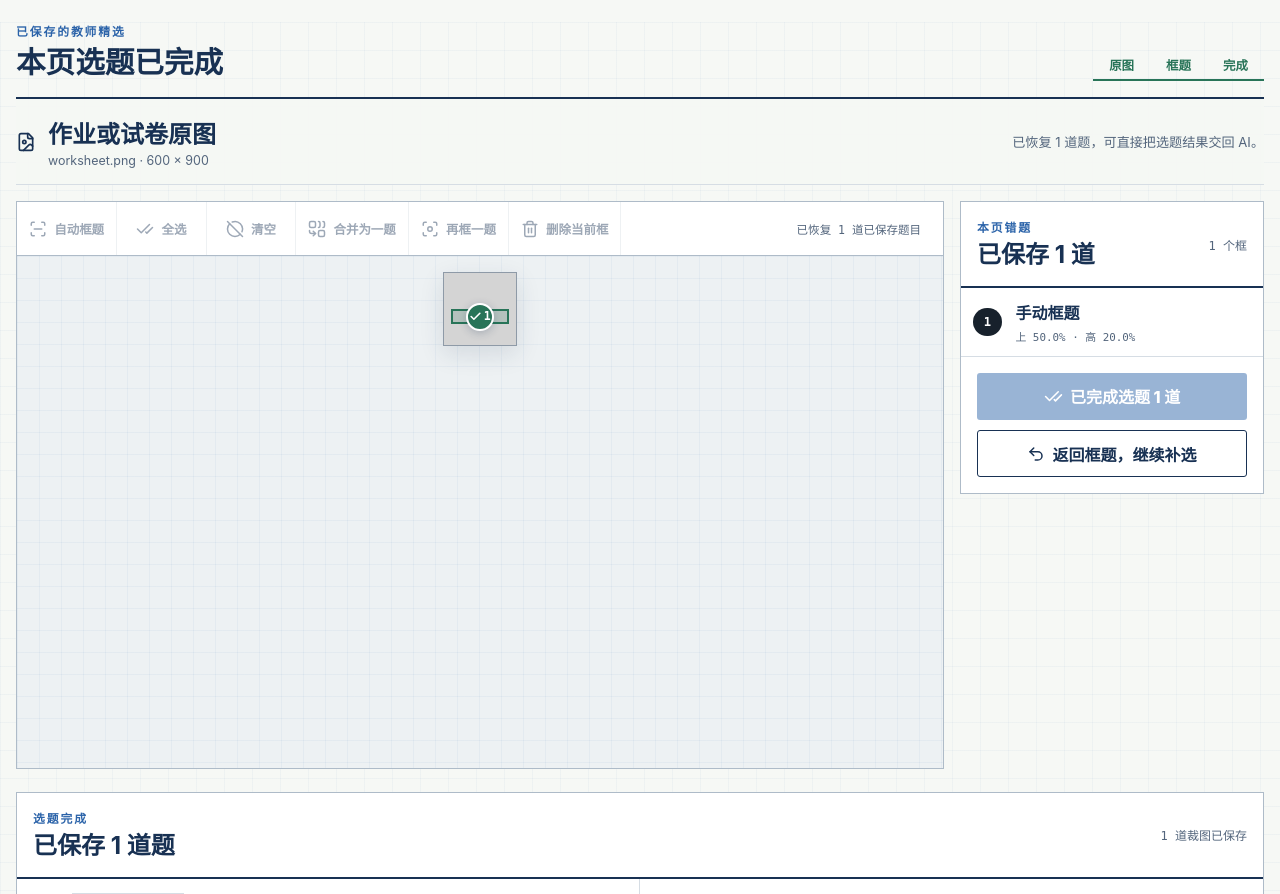
Test: ProblemIntake multi-region workflow › returns from completion to an add-only pass and accumulates the saved results
This screenshot has width=1280, height=894.
expect the heading "本页选题已完成" is shown: met, box [16, 44, 223, 81]
expect the heading "已保存 1 道" is shown: met, box [977, 235, 1095, 270]
Click the button "返回框题，继续补选" at (1112, 454), box [977, 430, 1247, 477]
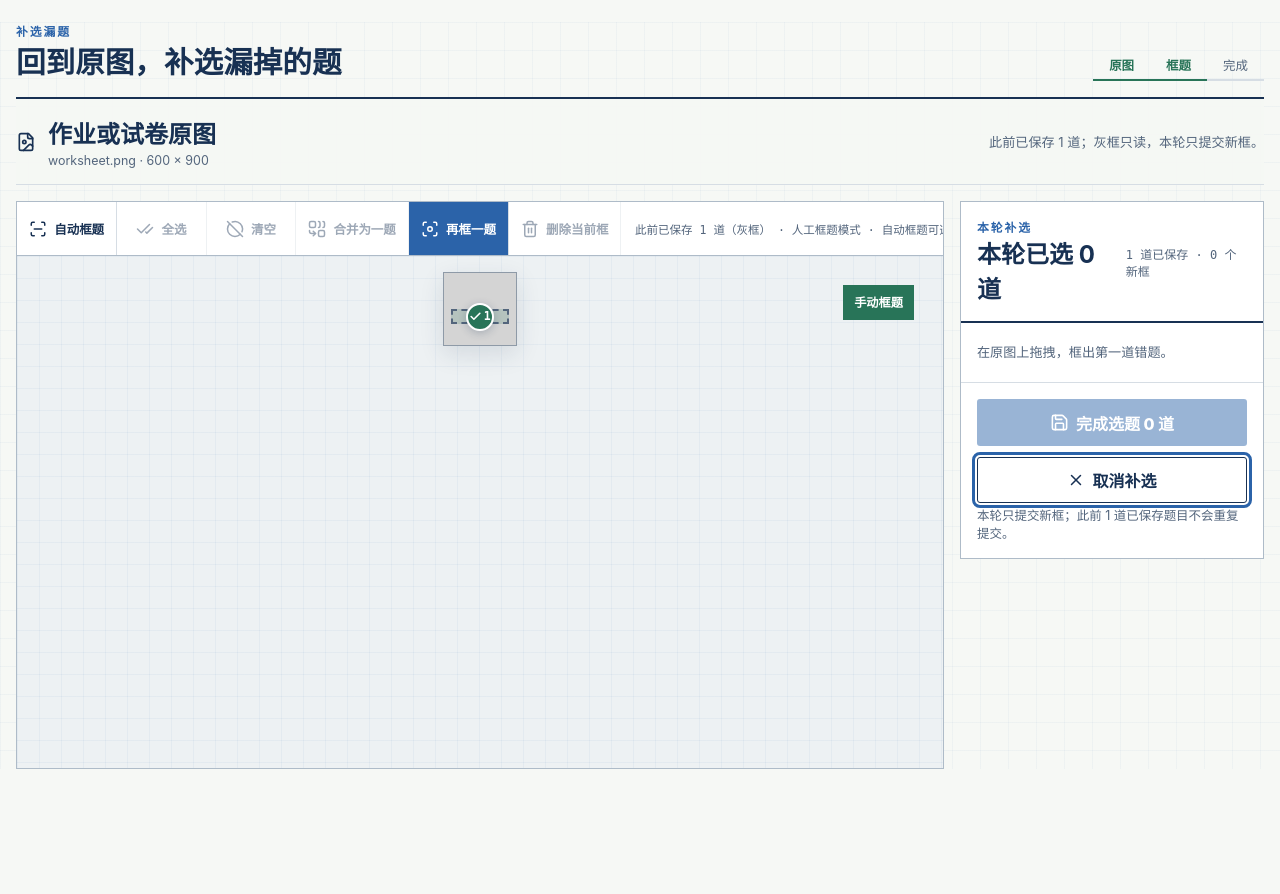
expect the heading "回到原图，补选漏掉的题" is shown: met, box [16, 44, 342, 81]
expect the heading "本轮已选 0 道" is shown: met, box [977, 235, 1110, 305]
expect the picture named "已保存手动题目框 1" is shown: met, box [451, 309, 509, 324]
Press the mouse on the element with test id "multi-region-surface" at (480, 309), box [443, 272, 517, 346]
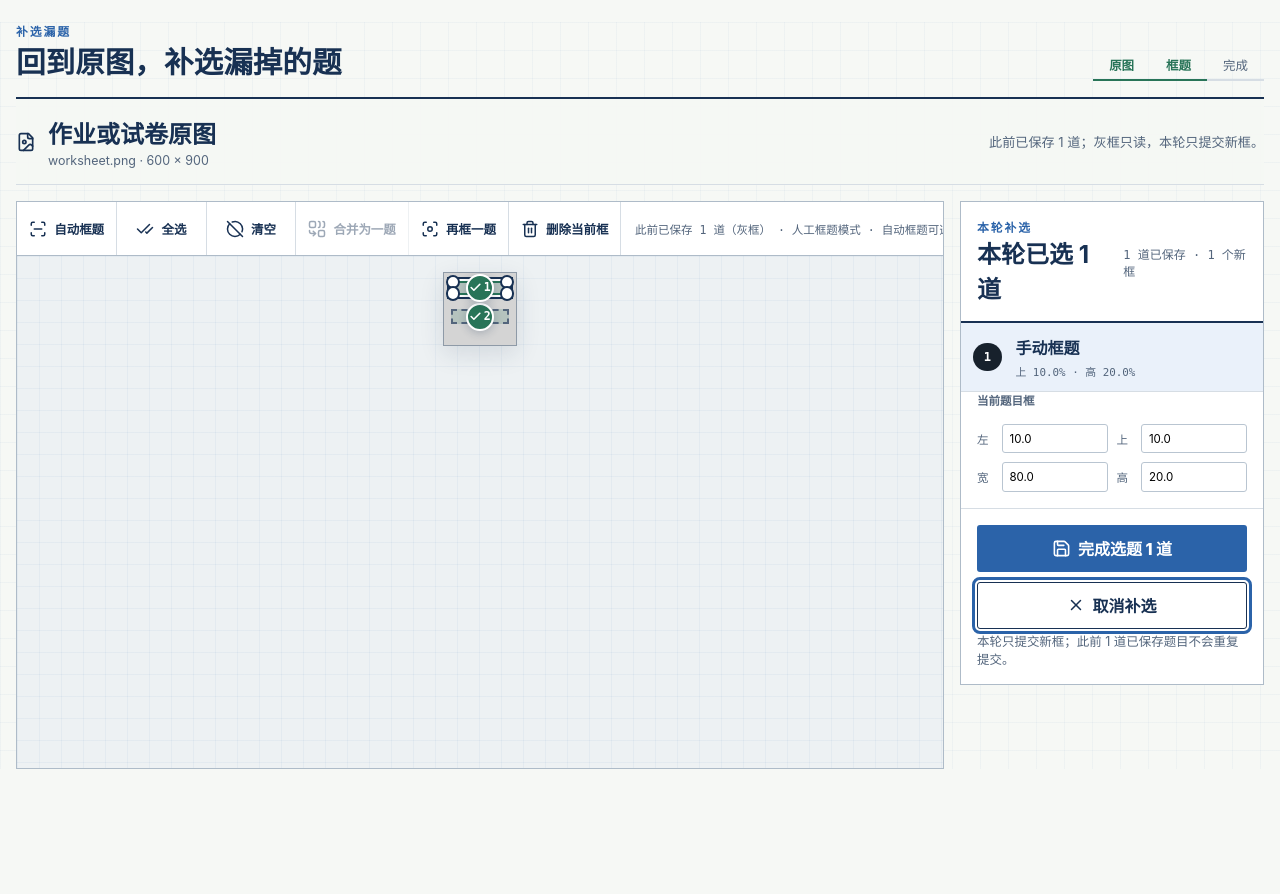
expect the heading "本轮已选 1 道" is shown: met, box [977, 235, 1107, 305]
Click the button "完成选题 1 道" at (1112, 548), box [977, 525, 1247, 572]
(page scrolled)
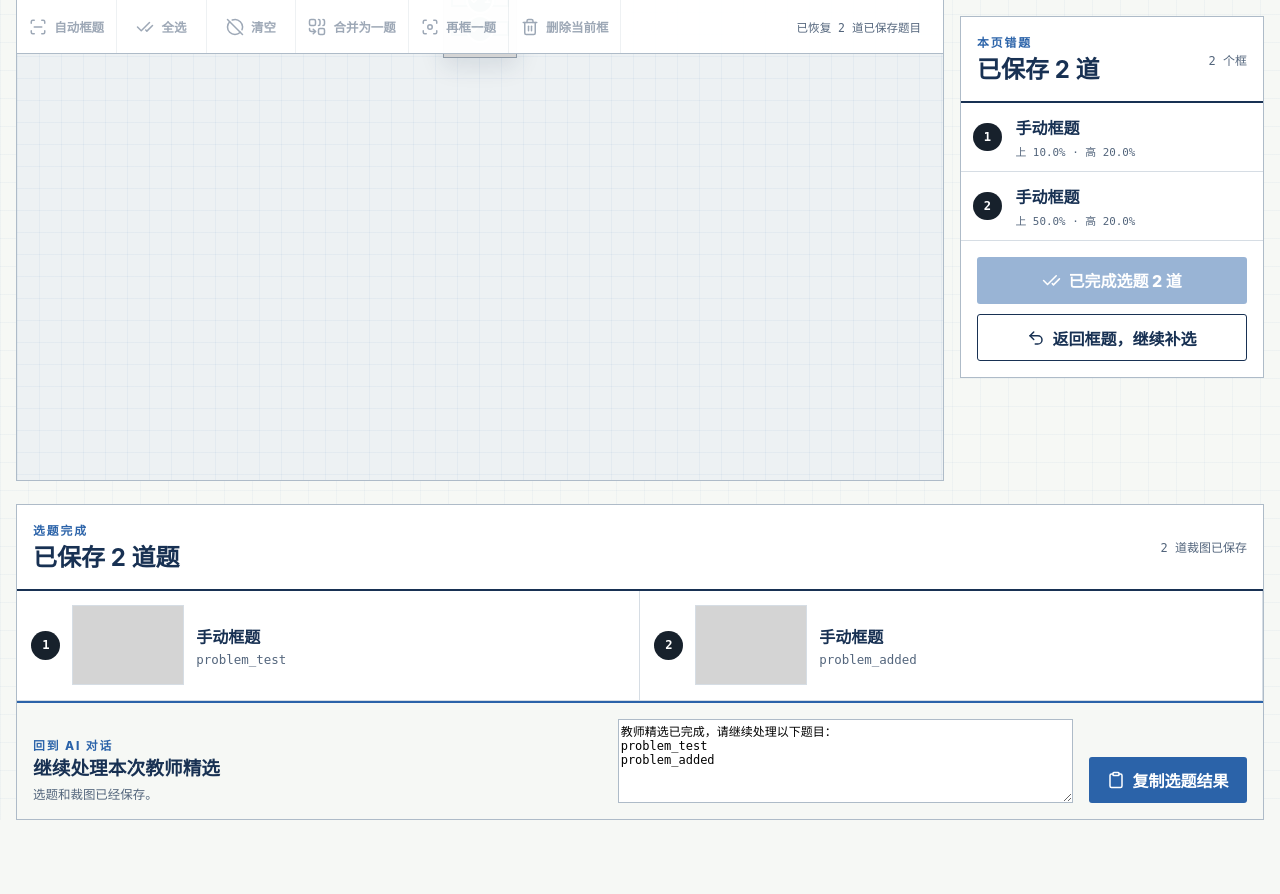
expect the heading "已保存 2 道题" is shown: met, box [33, 538, 180, 573]
